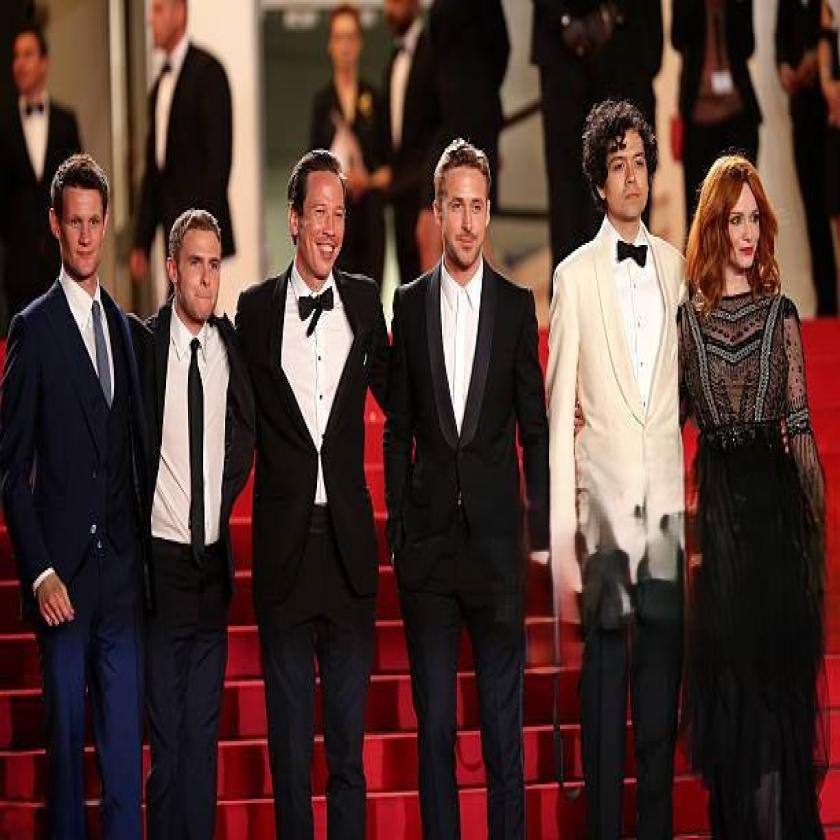Sin_casco: (691, 150, 782, 297), (582, 88, 664, 233), (283, 139, 351, 285), (425, 136, 498, 264), (53, 155, 120, 283), (160, 201, 229, 324)
